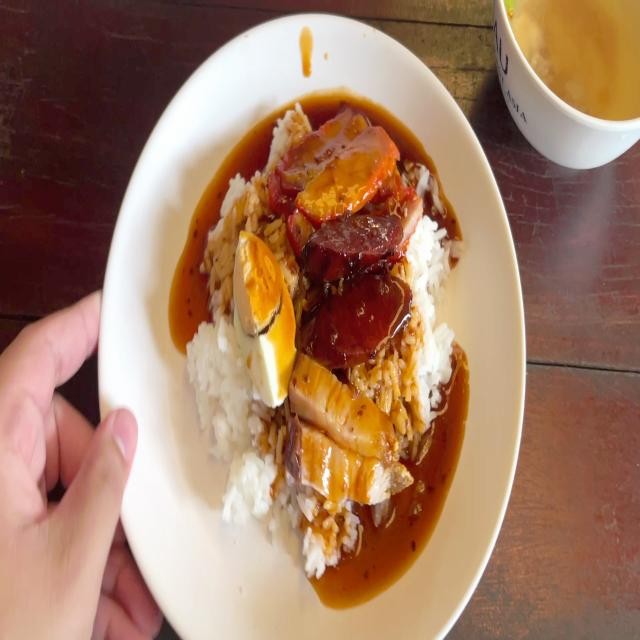boiled_egg: (239, 230, 289, 404)
chainese_sausage: (307, 218, 410, 355), (318, 271, 416, 350), (308, 218, 404, 268)
crispy_pork: (288, 359, 404, 504), (297, 365, 402, 448), (287, 435, 406, 495)
red_pork: (276, 122, 392, 200), (292, 137, 387, 226)
red_pork_and_crispy_pork: (188, 102, 456, 570)
rice: (207, 394, 276, 517), (184, 307, 240, 446), (417, 232, 446, 444), (204, 174, 253, 268), (276, 103, 304, 158)
